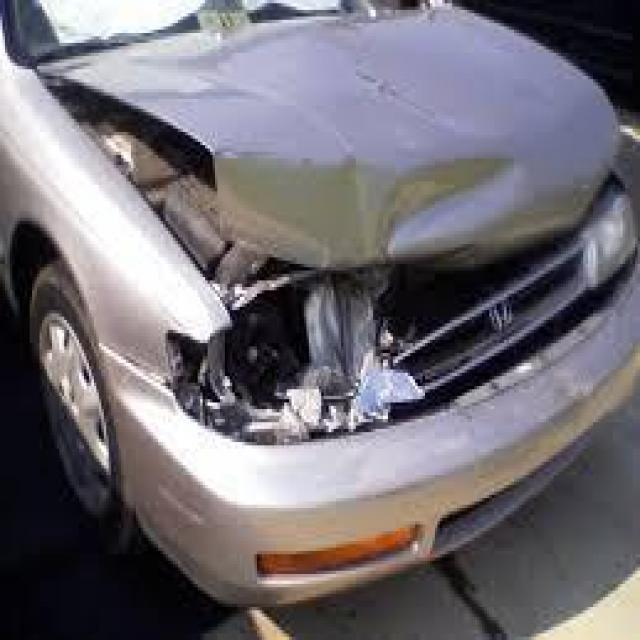damaged: (160, 146, 526, 446), (37, 69, 215, 254)
